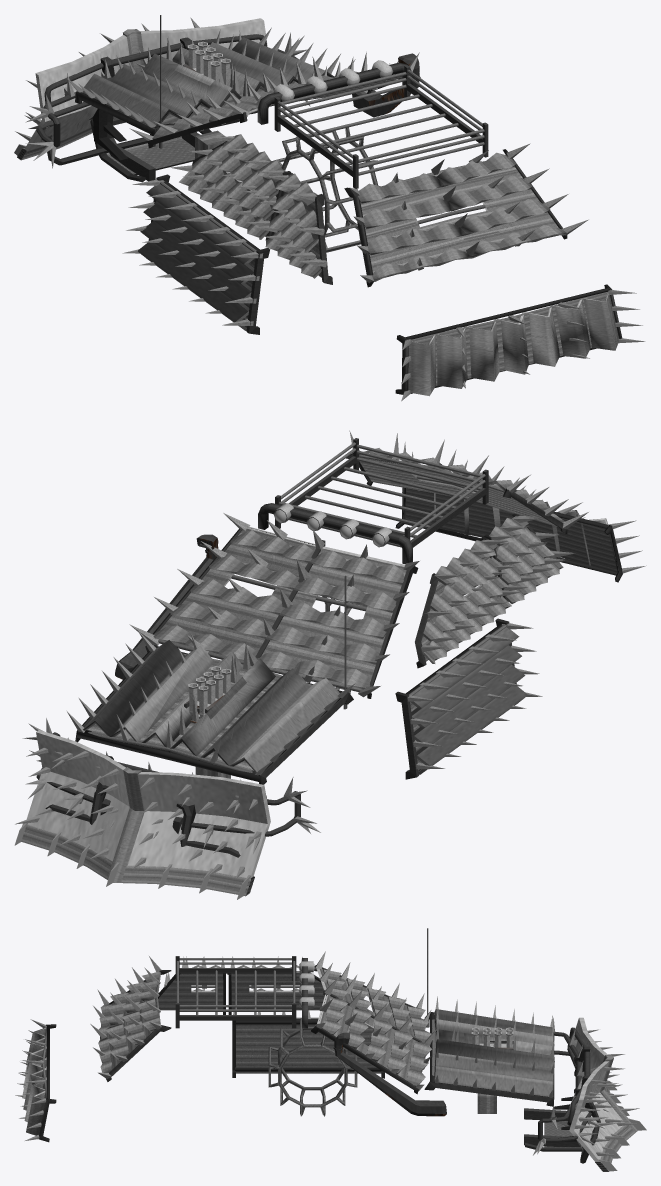
Rendered from SmallCar02Armor.fbx.
3 renders of one model, top to bottom at view 1: azimuth 30°, elevation 25°; view 2: azimuth 150°, elevation 25°; view 3: azimuth 270°, elevation 25°, orthographic. The views are drawn at different scales.
Visible parts, largest first — view 1: trunkreinforcedrear, windowreinforcedrear, roofrack, windowfrontreinforcedleft, plow, doorfrontreinforcedleft, hoodreinforcedfront, windowheavyrear, hoodreinforcedfrontscoop, windowheavyspikedrear, pushbar_medium, doorfrontheavyspikedleft (+20 smaller); view 2: plow, windowreinforcedfront, hoodreinforcedfront, windowheavyfront, plow_spiked, hoodreinforcedfrontscoop, windowfrontreinforcedleft, doorfrontreinforcedleft, roofrack, trunkheavyspikedrear, windowheavyspikedfront, hoodheavyspikedfront (+20 smaller); view 3: hoodreinforcedfront, windowreinforcedfront, windowfrontheavyleft, plow, doorfrontheavyleft, roofrack, hoodreinforcedfrontscoop, windowreinforcedrear, doorfrontheavyspikedleft, chaintires, windowheavyfront, windowheavyspikedfront (+17 smaller).
Part boxes in pixels (left/top/right/bottom): trunkreinforcedrear: left=404, top=287, right=618, bottom=396; windowreinforcedrear: left=358, top=152, right=566, bottom=281; roofrack: left=274, top=65, right=488, bottom=188; windowfrontreinforcedleft: left=179, top=134, right=321, bottom=278; plow: left=14, top=18, right=267, bottom=160; doorfrontreinforcedleft: left=138, top=181, right=259, bottom=330; hoodreinforcedfront: left=83, top=37, right=334, bottom=133; windowheavyrear: left=344, top=149, right=567, bottom=287; hoodreinforcedfrontscoop: left=82, top=38, right=324, bottom=123; windowheavyspikedrear: left=349, top=143, right=588, bottom=283; pushbar_medium: left=46, top=117, right=239, bottom=182; doorfrontheavyspikedleft: left=122, top=179, right=263, bottom=325; plow: left=14, top=730, right=270, bottom=899; windowreinforcedfront: left=153, top=530, right=404, bottom=689; hoodreinforcedfront: left=76, top=640, right=342, bottom=782; windowheavyfront: left=152, top=527, right=416, bottom=698; plow_spiked: left=15, top=733, right=267, bottom=878; hoodreinforcedfrontscoop: left=77, top=641, right=346, bottom=781; windowfrontreinforcedleft: left=422, top=516, right=563, bottom=663; doorfrontreinforcedleft: left=405, top=624, right=527, bottom=774; roofrack: left=275, top=438, right=488, bottom=547; trunkheavyspikedrear: left=402, top=486, right=646, bottom=573; windowheavyspikedfront: left=129, top=513, right=419, bottom=698; hoodheavyspikedfront: left=67, top=629, right=355, bottom=775; hoodreinforcedfront: left=430, top=1009, right=554, bottom=1102; windowreinforcedfront: left=323, top=969, right=431, bottom=1086; windowfrontheavyleft: left=158, top=972, right=324, bottom=1014; plow: left=561, top=1017, right=646, bottom=1171; doorfrontheavyleft: left=232, top=1020, right=384, bottom=1078; roofrack: left=175, top=956, right=296, bottom=1028; hoodreinforcedfrontscoop: left=435, top=1010, right=554, bottom=1101; windowreinforcedrear: left=98, top=971, right=161, bottom=1072; doorfrontheavyspikedleft: left=233, top=1010, right=381, bottom=1073; chaintires: left=268, top=1018, right=357, bottom=1116; windowheavyfront: left=311, top=965, right=421, bottom=1094; windowheavyspikedfront: left=311, top=951, right=436, bottom=1093.
Bounding box in the file's own units: 273 × 197 × 653.
